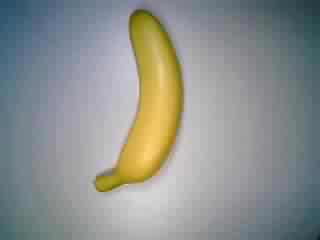banana: (90, 5, 185, 196)
